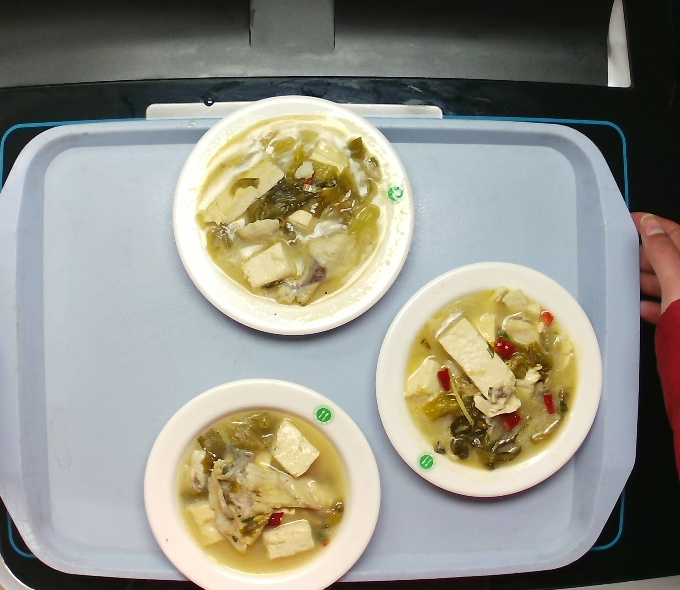wcq-SuanCaiDouFuYu: (194, 115, 394, 305), (404, 290, 580, 465), (170, 406, 358, 567)
